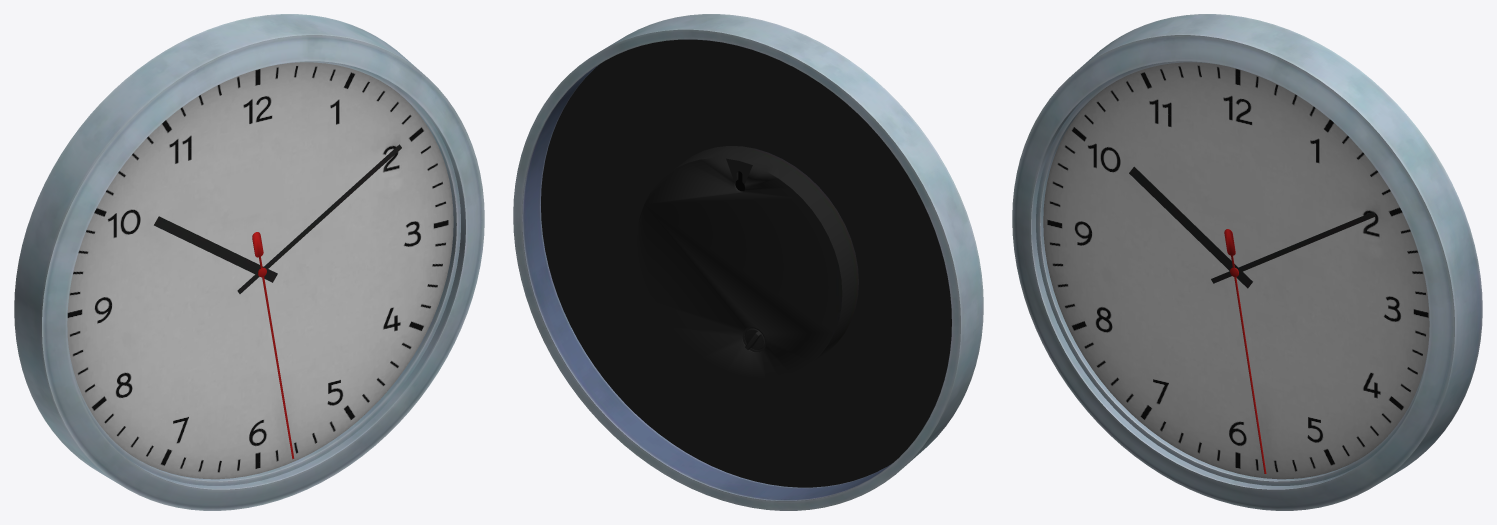
The model's file is reloj_pared.glb.
3 renders of one model, left to right at view 1: azimuth 30°, elevation 25°; view 2: azimuth 150°, elevation 25°; view 3: azimuth 330°, elevation 25°, orthographic.
Parts seen in each view (by area): view 1: reloj_pared; view 2: reloj_pared; view 3: reloj_pared.
Part boxes in pixels (box(x1,y1,x2,y2)): reloj_pared: box(14, 14, 484, 510); reloj_pared: box(513, 14, 983, 510); reloj_pared: box(1012, 14, 1482, 510).
Size of the model in its own units: 0.3205 by 0.3205 by 0.0354.
1 material, 1 textured.
